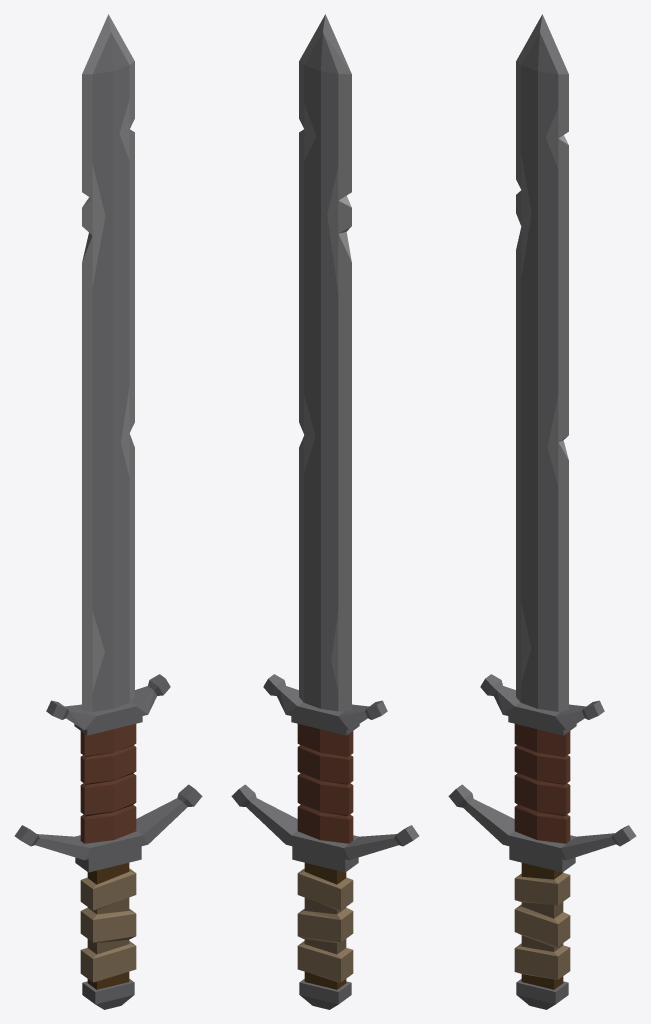
File: SM_Wep_Zweihander_01.gltf
3 renders of one model, left to right at view 1: azimuth 30°, elevation 25°; view 2: azimuth 150°, elevation 25°; view 3: azimuth 330°, elevation 25°, orthographic.
Visible parts, largest first — view 1: SM_Wep_Zweihander_01; view 2: SM_Wep_Zweihander_01; view 3: SM_Wep_Zweihander_01.
Part boxes in pixels (x1,y1,x2,y2): SM_Wep_Zweihander_01: [14, 14, 202, 1009]; SM_Wep_Zweihander_01: [231, 14, 419, 1009]; SM_Wep_Zweihander_01: [448, 14, 636, 1009].
Size of the model in its own units: 0.3013 by 1.57 by 0.0449.
Materials: 1 (1 with a texture image).
